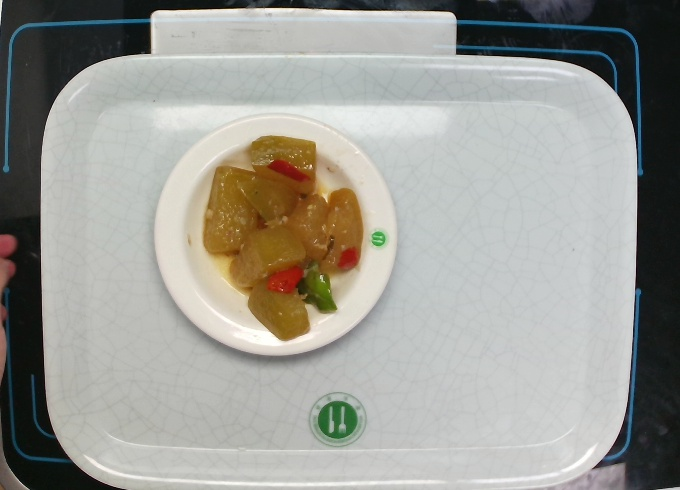WCQzf-Kuan_Bian_Yuan_Die: (150, 109, 398, 360)
